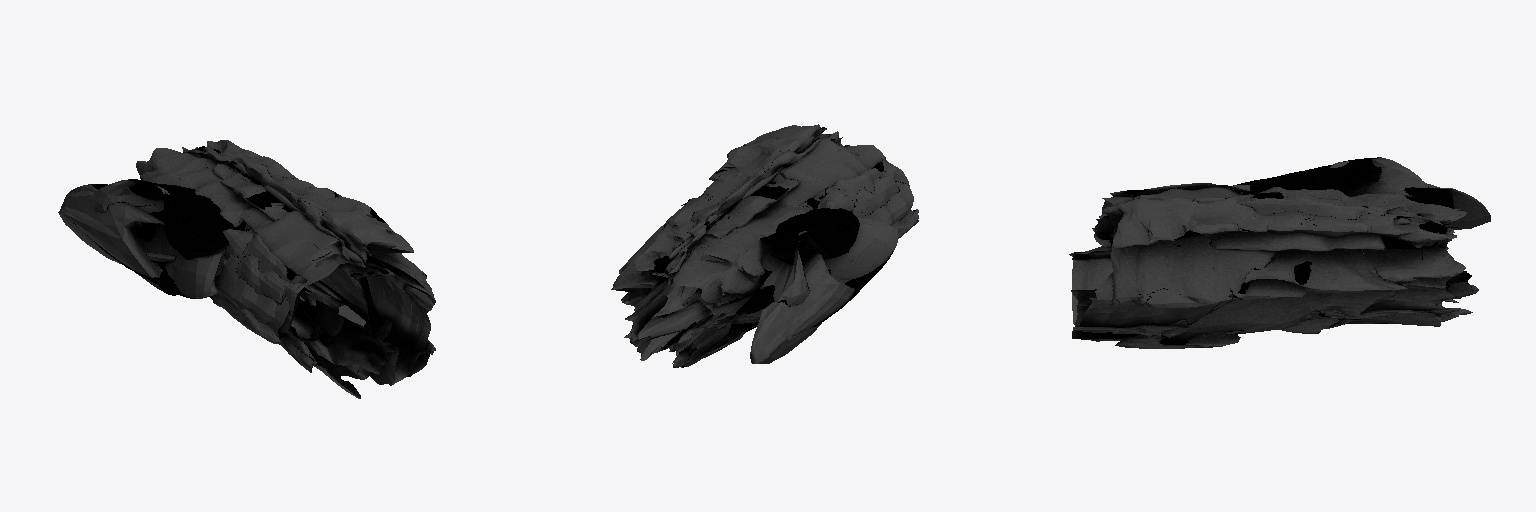
3 views of the same model, side by side, from view 1: azimuth 30°, elevation 25°; view 2: azimuth 150°, elevation 25°; view 3: azimuth 270°, elevation 25° (orthographic).
Parts seen in each view (by area): view 1: Cylinder; view 2: Cylinder; view 3: Cylinder.
Boxes of the visible parts, box(x1,y1,x2,y2) form: Cylinder: box(58, 140, 435, 398); Cylinder: box(611, 124, 918, 367); Cylinder: box(1069, 157, 1490, 348).
Size of the model in its own units: 6.57 by 4.13 by 11.21.
1 materials, 1 textured.